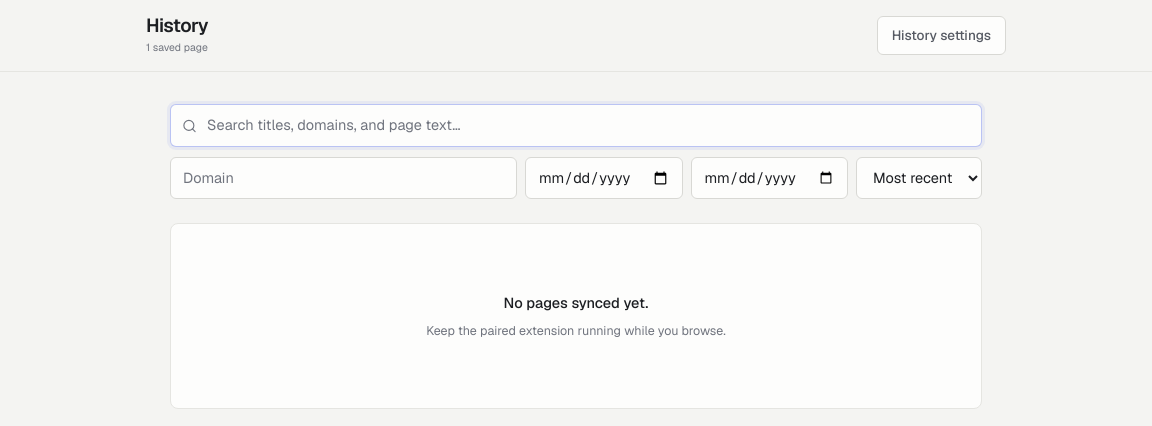
Test case: HistoryPage › distinguishes an empty filtered result from an empty history
In the search field named "Search browser history": (576, 126) [170, 104, 982, 147], type "no match"
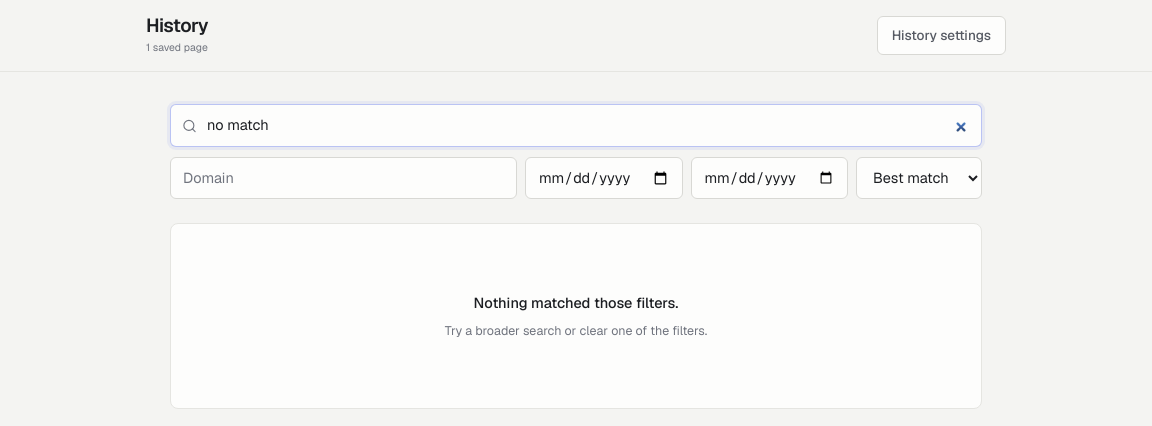
Expected: the text "Nothing matched those filters." is shown, [474, 293, 678, 312]
Expected: the text "Try a broader search or clear one of the filters." is shown, [445, 322, 707, 339]
